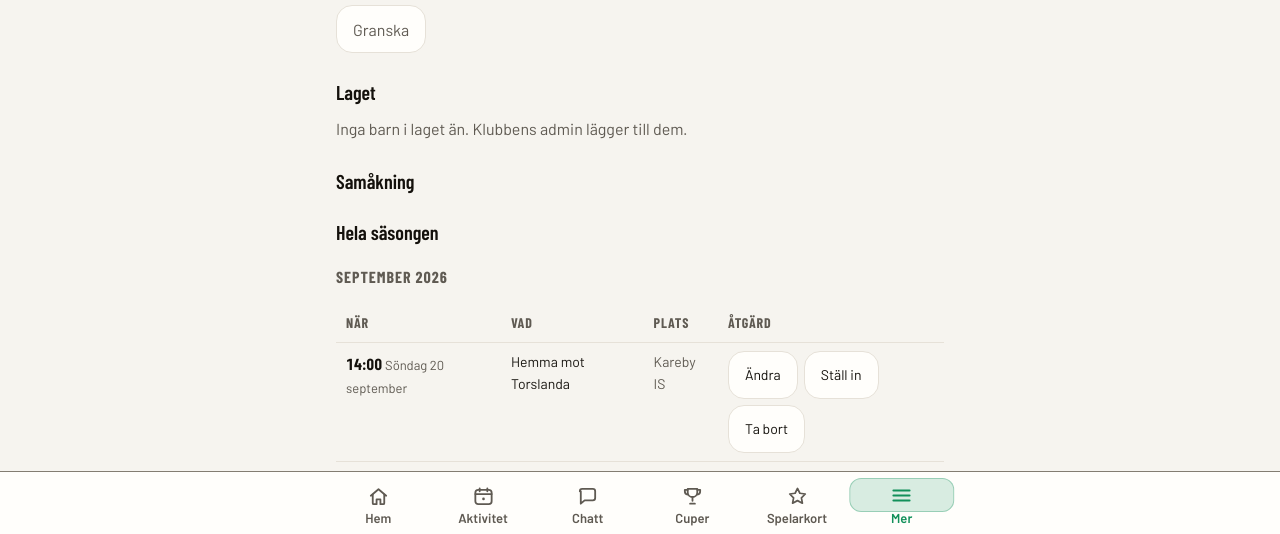
Scenario: fel vid ändring visas i stället för att sväljas (#393) › förifyller notisen vid redigering så den inte nollas (#468)
(page scrolled)
Click the button named "Ändra Hemma mot Torslanda" at x=763, y=375, box [728,351,798,399]
(page scrolled)
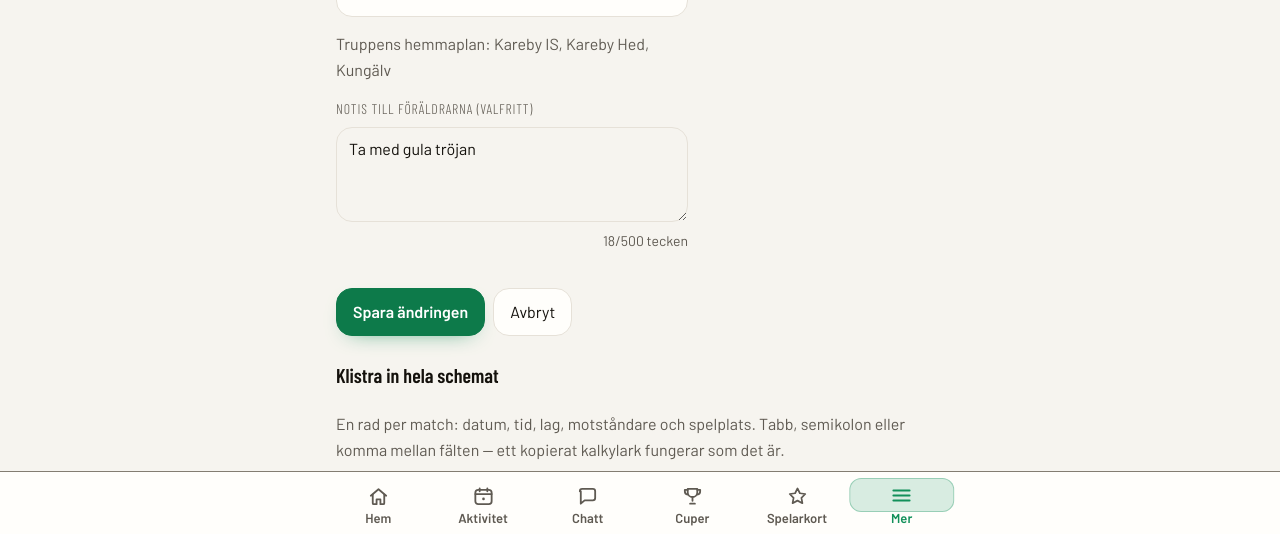
expect the text box labelled "Notis till föräldrarna (valfritt)" holds "Ta med gula tröjan": met, box [336,127,688,222]
